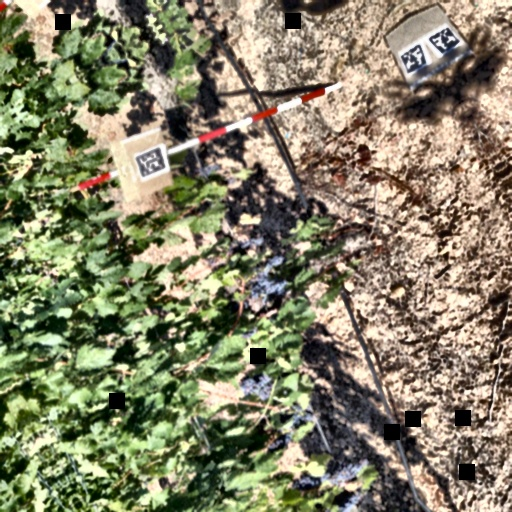QR: (394, 40, 433, 78), (134, 145, 169, 180)
